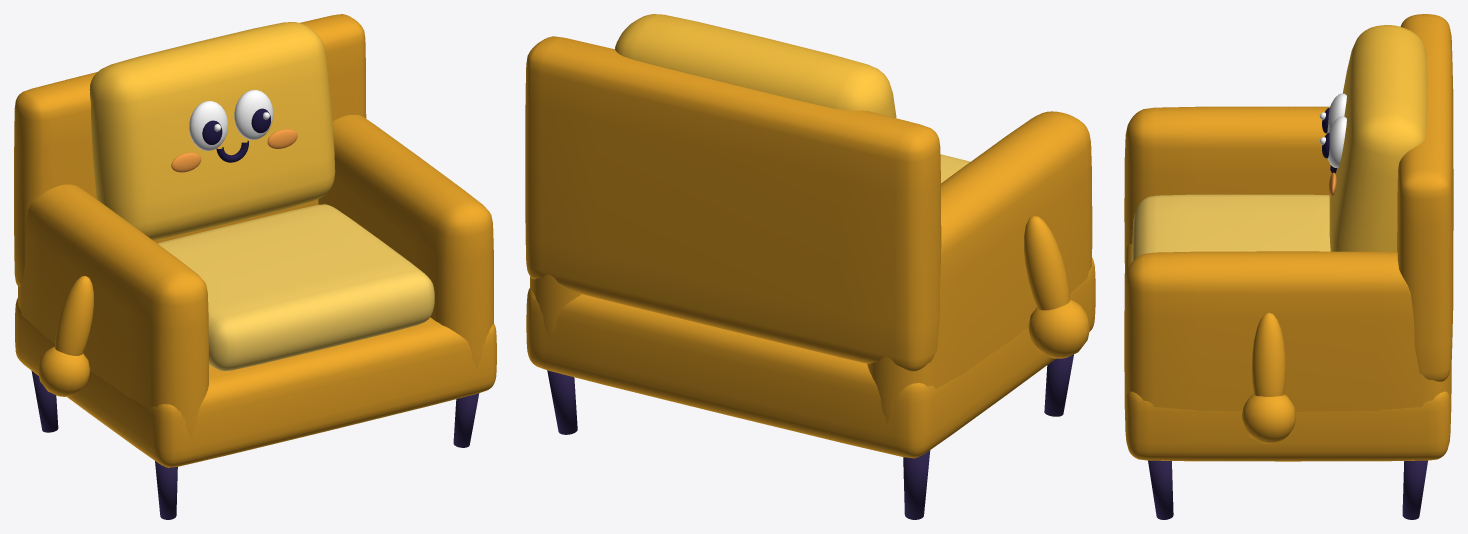
Rendered from armchair.glb.
3 views of the same model, side by side, from view 1: azimuth 30°, elevation 25°; view 2: azimuth 150°, elevation 25°; view 3: azimuth 270°, elevation 25° (orthographic). The views are drawn at different scales.
Parts seen in each view (by area): view 1: Подушка спинки.008, Основание.003, Подушка сиденья.007, Подлокотник.006, Подлокотник.007, Спинка.004, Рука L.003, Ладошка L.003, Белок R.003, Белок L.003, Ножка.013, Ножка.015 (+1 smaller); view 2: Спинка.004, Основание.003, Подлокотник.006, Подушка спинки.008, Рука L.003, Ладошка L.003, Ножка.014, Подлокотник.007, Ножка.016, Ножка.013; view 3: Подлокотник.007, Подлокотник.006, Подушка спинки.008, Основание.003, Спинка.004, Подушка сиденья.007, Рука R.003, Ладошка R.003, Ножка.015, Ножка.016, Белок R.003, Белок L.003.
Part boxes in pixels (x1,y1,x2,y2): Подушка спинки.008: (89,22,335,240); Основание.003: (15,298,496,467); Подушка сиденья.007: (157,204,434,371); Подлокотник.006: (18,184,208,438); Подлокотник.007: (318,114,493,368); Спинка.004: (14,14,366,286); Рука L.003: (54,276,93,355); Ладошка L.003: (38,347,90,396); Белок R.003: (234,89,273,139); Белок L.003: (189,101,228,150); Ножка.013: (155,461,177,519); Ножка.015: (453,393,479,447); Спинка.004: (525,36,941,371); Основание.003: (526,257,1095,458); Подлокотник.006: (867,111,1092,423); Подушка спинки.008: (615,14,896,117); Рука L.003: (1024,216,1070,310); Ладошка L.003: (1028,299,1089,358); Ножка.014: (903,450,930,519); Подлокотник.007: (530,274,581,341); Ножка.016: (547,370,577,434); Ножка.013: (1044,354,1073,416); Подлокотник.007: (1124,251,1451,418); Подлокотник.006: (1124,106,1330,262); Подушка спинки.008: (1329,25,1427,251); Основание.003: (1124,243,1451,461); Спинка.004: (1397,14,1453,381); Подушка сиденья.007: (1132,194,1330,262); Рука R.003: (1252,312,1285,396); Ладошка R.003: (1241,394,1296,443); Ножка.015: (1148,460,1173,519); Ножка.016: (1402,460,1427,519); Белок R.003: (1328,116,1346,167); Белок L.003: (1327,93,1346,132).
Bounding box in the file's own units: 1.41 × 1.08 × 0.8642.
